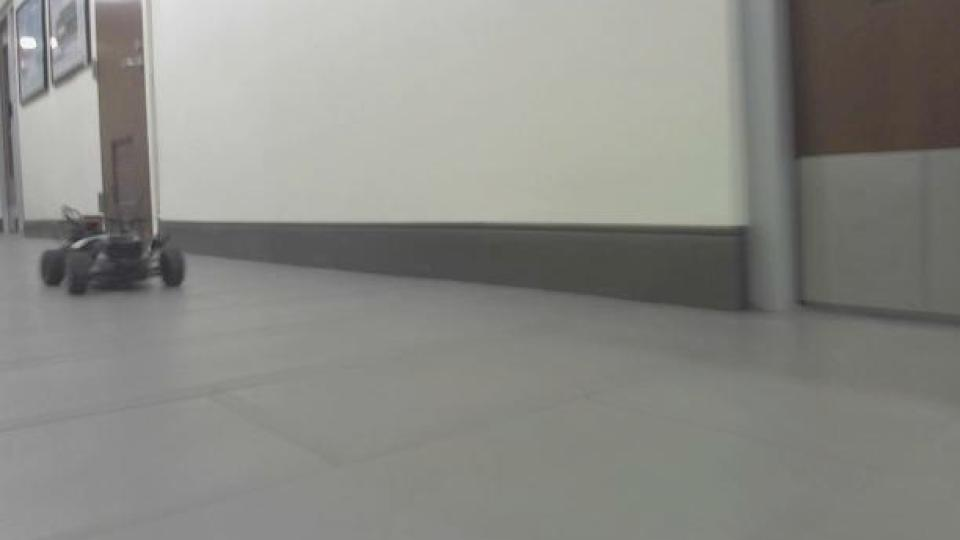car: (35, 202, 188, 298)
